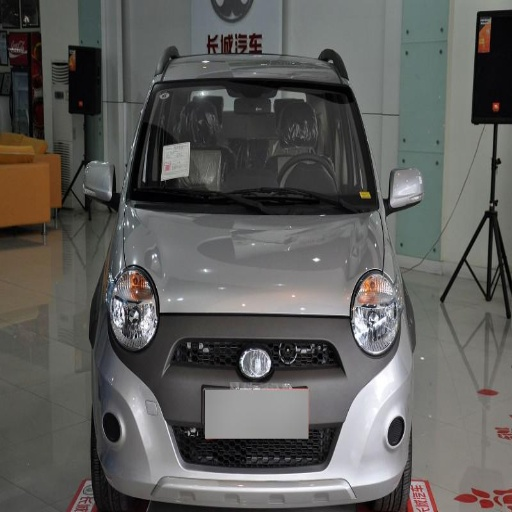front_bumper: (97, 314, 411, 511)
hood: (122, 206, 380, 315)
left_mirror: (386, 167, 425, 213)
right_mirror: (83, 162, 117, 207)
trunk: (137, 311, 271, 406)
